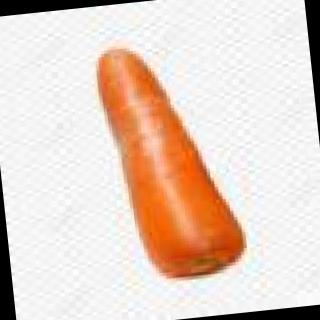Wortel: (62, 27, 271, 304)
